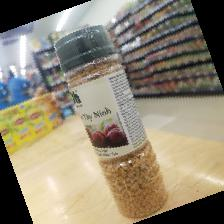TayNinh_green: (54, 24, 169, 221)
